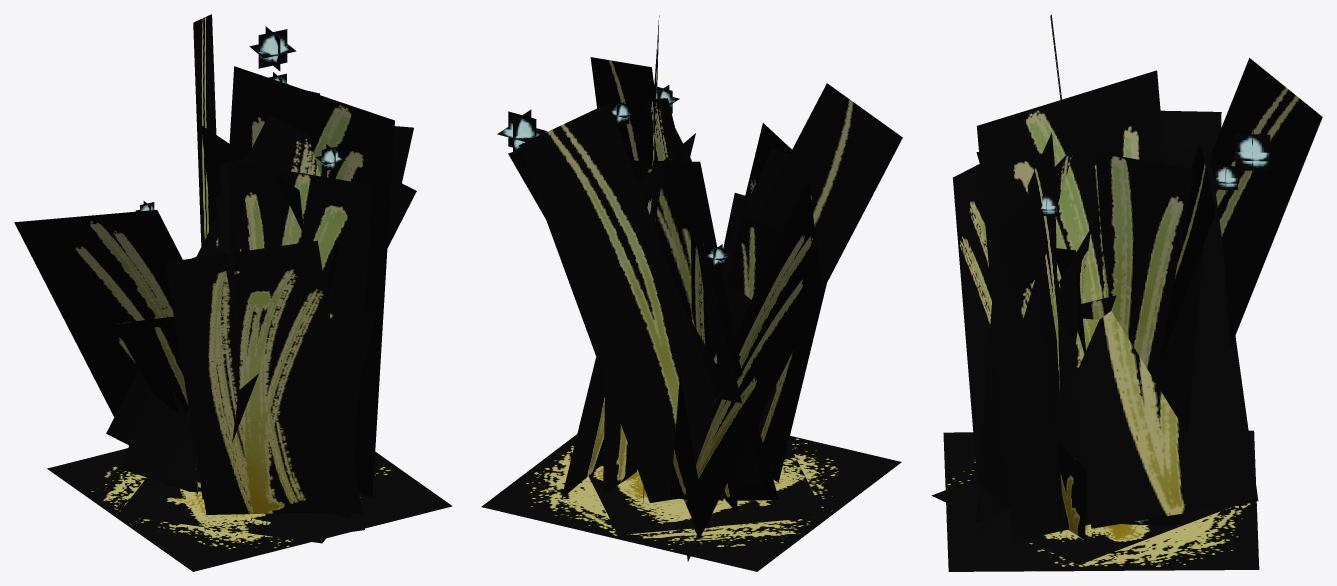
The model's file is grass03.fbx.
The picture shows the model from 3 angles, left to right: view 1: azimuth 30°, elevation 25°; view 2: azimuth 150°, elevation 25°; view 3: azimuth 270°, elevation 25°; orthographic projection. The views are drawn at different scales.
Parts seen in each view (by area): view 1: grassF2_BAKED; view 2: grassF2_BAKED; view 3: grassF2_BAKED.
Part boxes in pixels (x1,y1,x2,y2): grassF2_BAKED: (14, 14, 452, 571); grassF2_BAKED: (481, 15, 902, 571); grassF2_BAKED: (931, 14, 1322, 571).
Bounding box in the file's own units: 45.05 × 61.71 × 44.68.
